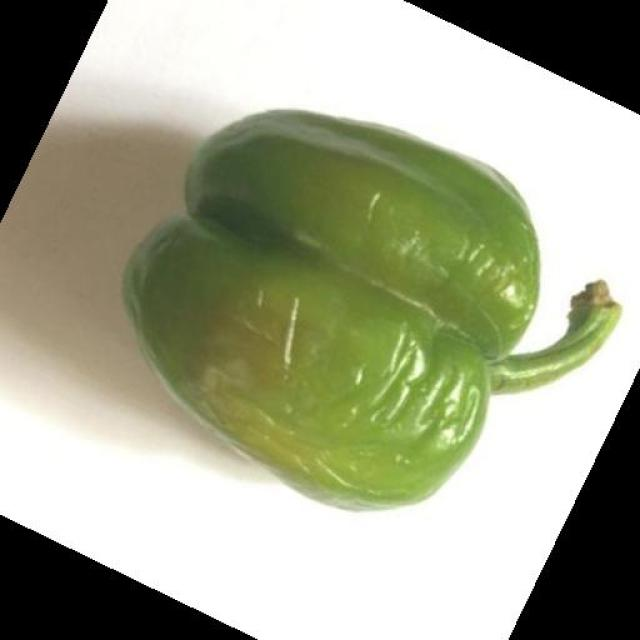Stale_Capsicum: (125, 117, 624, 459)
